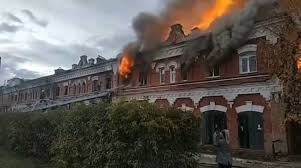fire: (109, 18, 260, 93)
